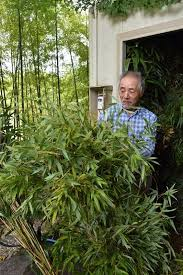bamboo: (3, 177, 174, 272), (6, 13, 86, 108), (11, 117, 148, 171)
